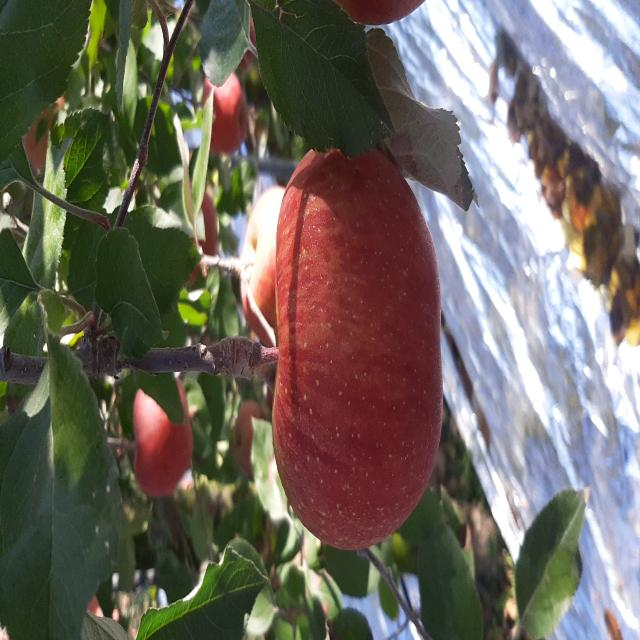fresh: (269, 137, 450, 557)
